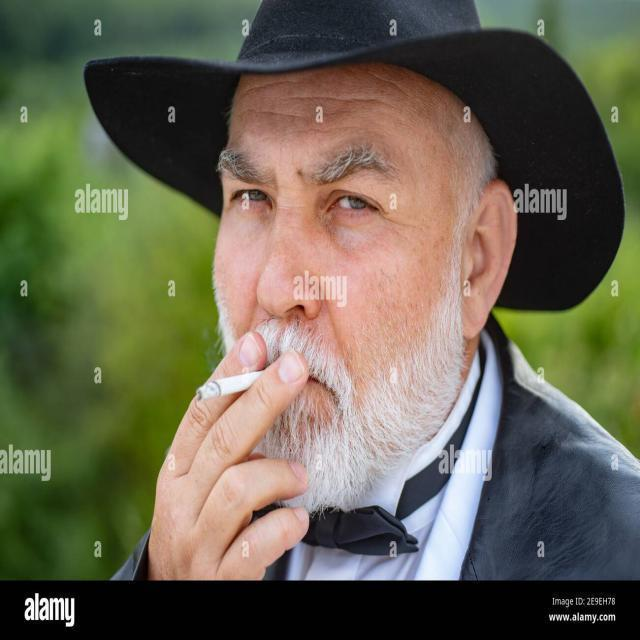smoking: (187, 335, 310, 416)
